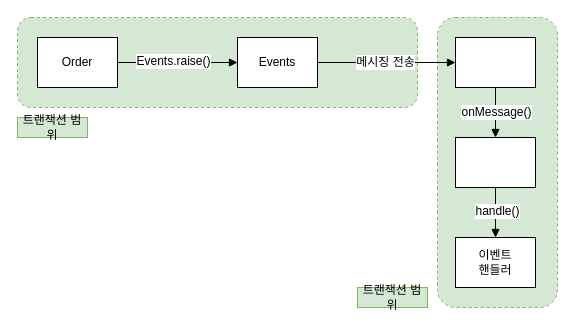
Some shapes in this 575 by 329 pixel diagram are drawn without their labels. Here are the shapes that lost their labels. From the top down, the box of each, then its label:
(454, 36, 536, 88): 메시징 시스템
(454, 136, 536, 188): Message Listener
